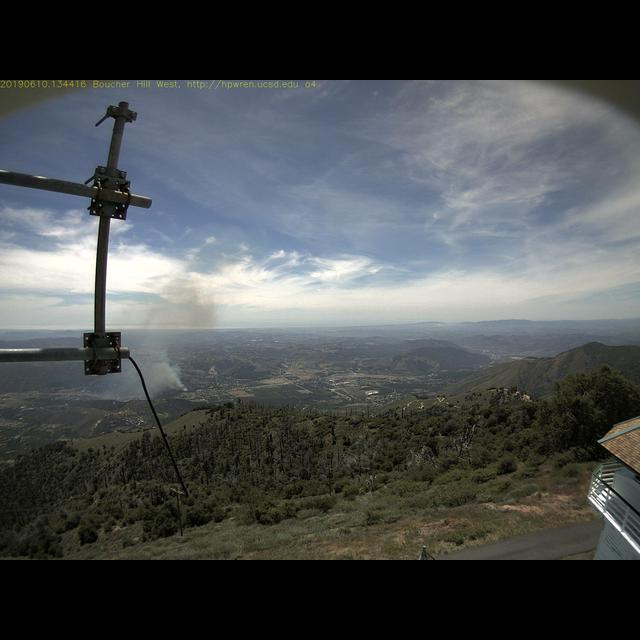Smoke: (125, 273, 200, 394)
